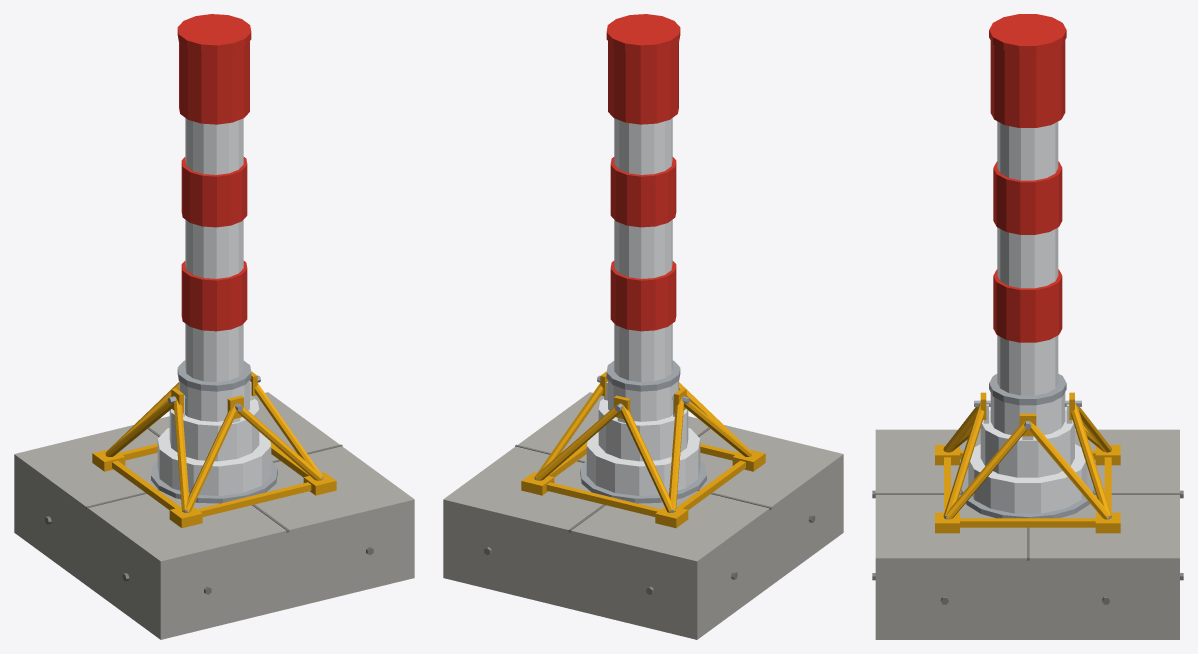
Rendered from channel marker.fbx.
The picture shows the model from 3 angles, left to right: view 1: azimuth 30°, elevation 25°; view 2: azimuth 150°, elevation 25°; view 3: azimuth 270°, elevation 25°; orthographic projection. The views are drawn at different scales.
Parts seen in each view (by area): view 1: Channel_Marker_Concrete_Plinth; view 2: Channel_Marker_Concrete_Plinth; view 3: Channel_Marker_Concrete_Plinth.
Part boxes in pixels (x1,y1,x2,y2): Channel_Marker_Concrete_Plinth: [14, 14, 414, 639]; Channel_Marker_Concrete_Plinth: [443, 14, 843, 639]; Channel_Marker_Concrete_Plinth: [872, 14, 1183, 639].
Size of the model in its own units: 225 by 435 by 225.
